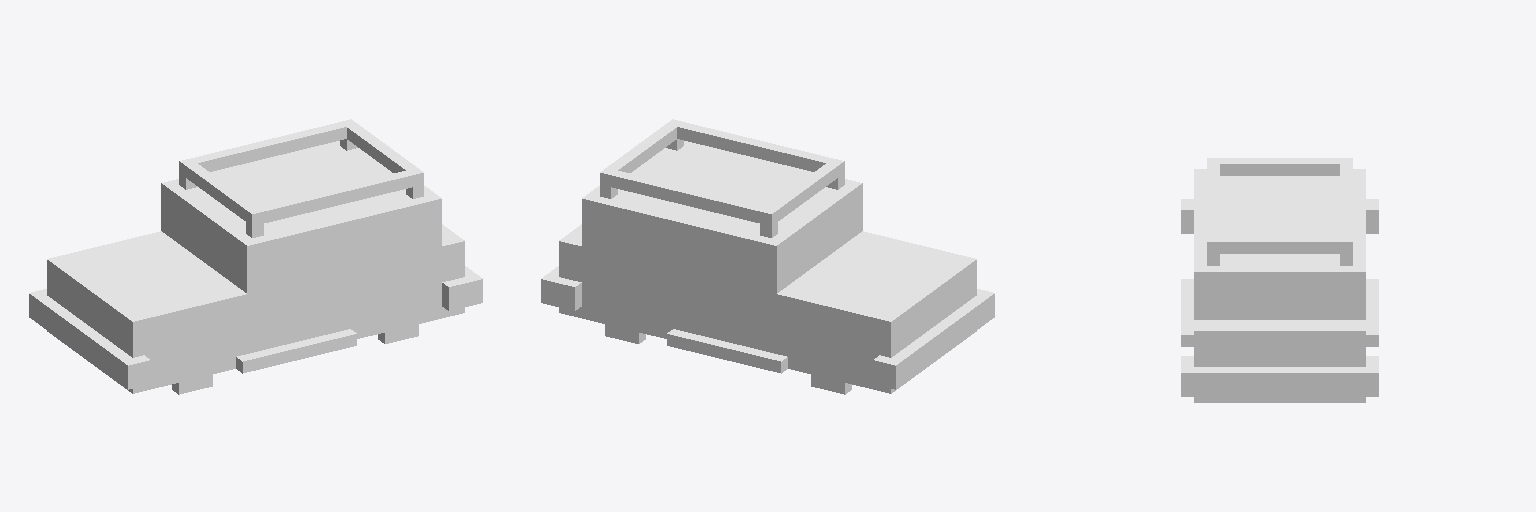
The model's file is voiture2black.obj.
3 views of the same model, side by side, from view 1: azimuth 30°, elevation 25°; view 2: azimuth 150°, elevation 25°; view 3: azimuth 270°, elevation 25° (orthographic).
Parts seen in each view (by area): view 1: voiture2black; view 2: voiture2black; view 3: voiture2black.
Part boxes in pixels (x1,y1,x2,y2): voiture2black: (29, 119, 482, 394); voiture2black: (541, 119, 994, 394); voiture2black: (1181, 158, 1378, 402).
Bounding box in the file's own units: 31 × 13 × 15.